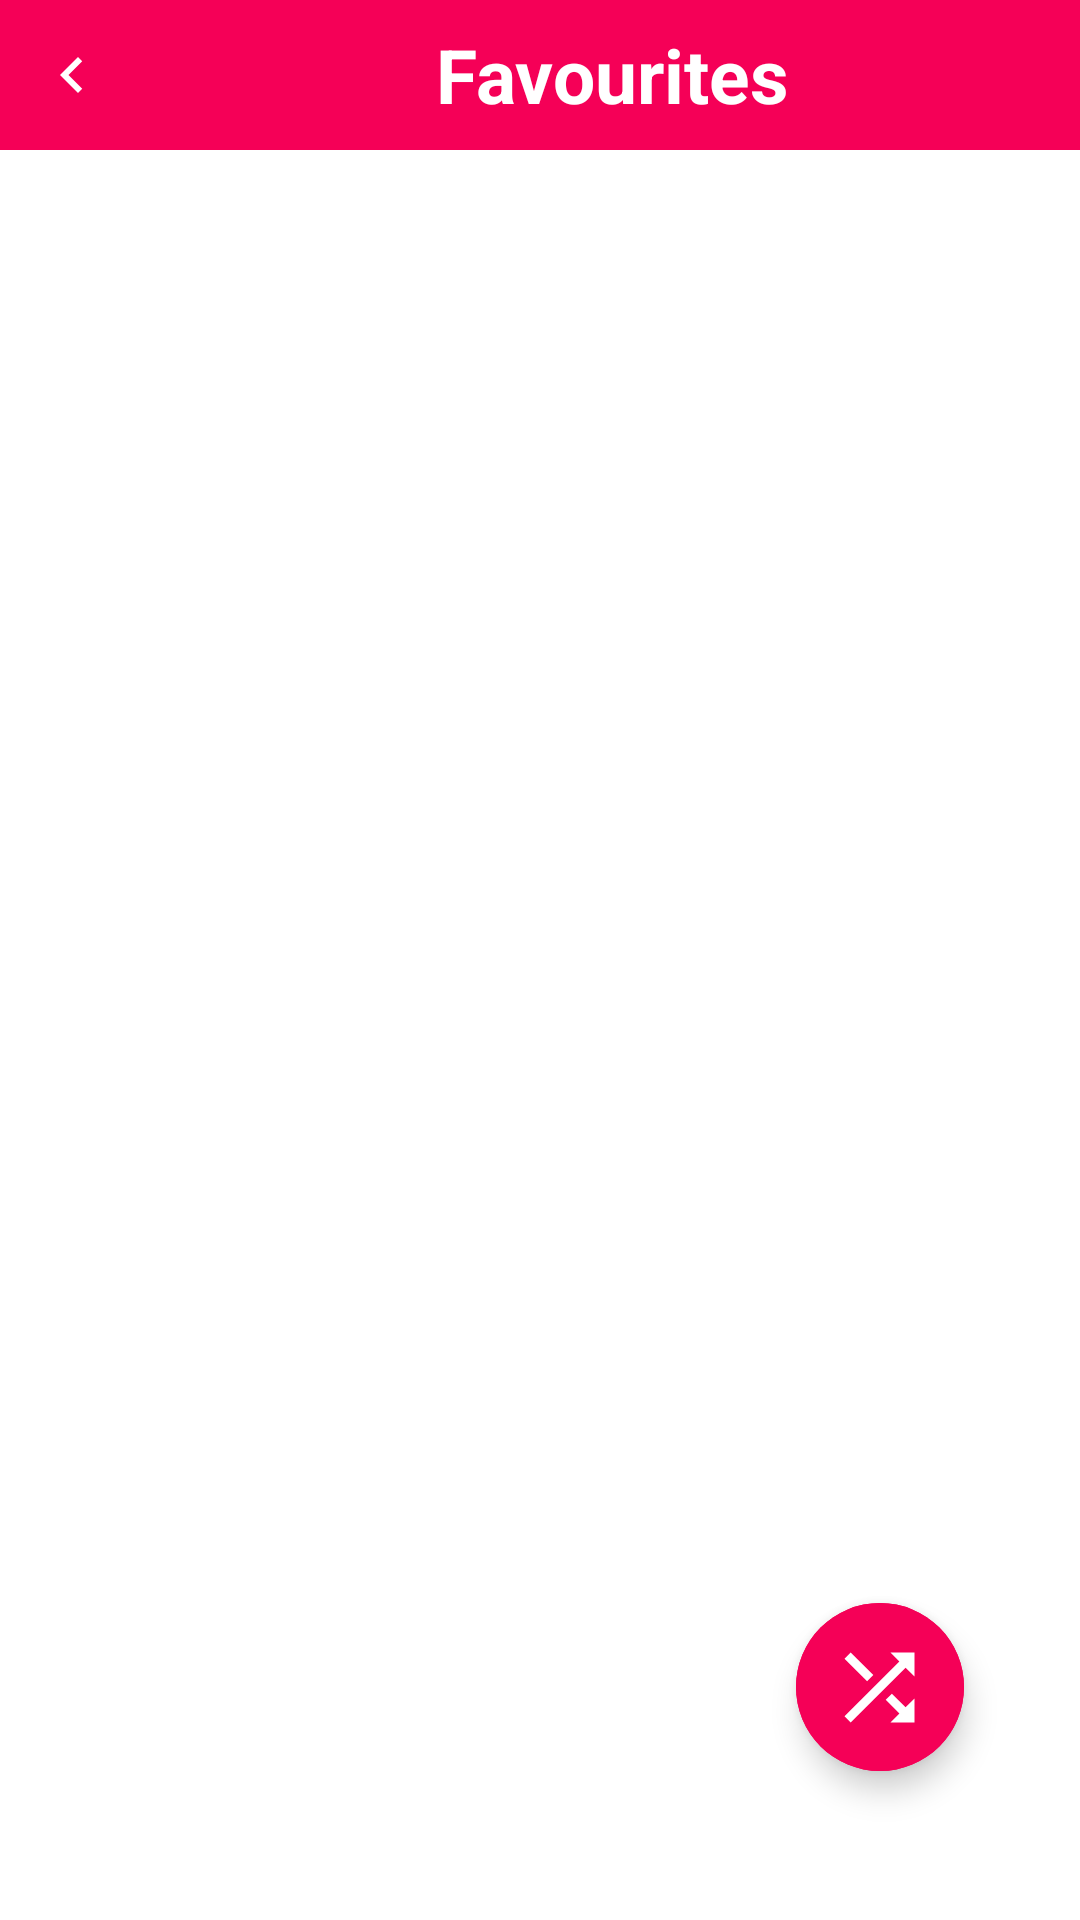

Screen size 1080×1920. Icon name, then its center in pixels as [x,y]:
shuffle: [880,1687]
